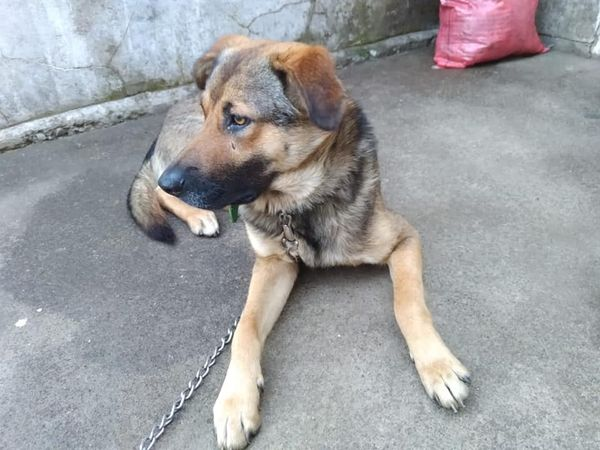dog: (113, 26, 482, 450)
